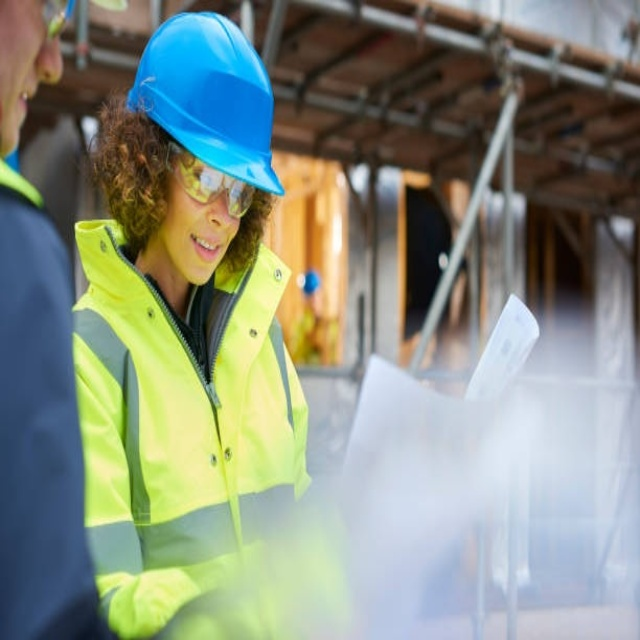Gafas: (164, 135, 258, 221), (30, 2, 81, 36)
Sin_mascara: (4, 74, 42, 149), (183, 224, 227, 278)
